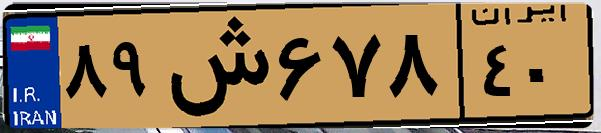0: (525, 38, 570, 115)
4: (475, 38, 525, 113)
6: (270, 28, 330, 110)
7: (330, 28, 385, 110)
8: (385, 28, 445, 110), (57, 26, 110, 100)
9: (110, 28, 158, 98)
ش: (158, 12, 270, 120)
